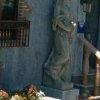Statue: (39, 5, 86, 84)
